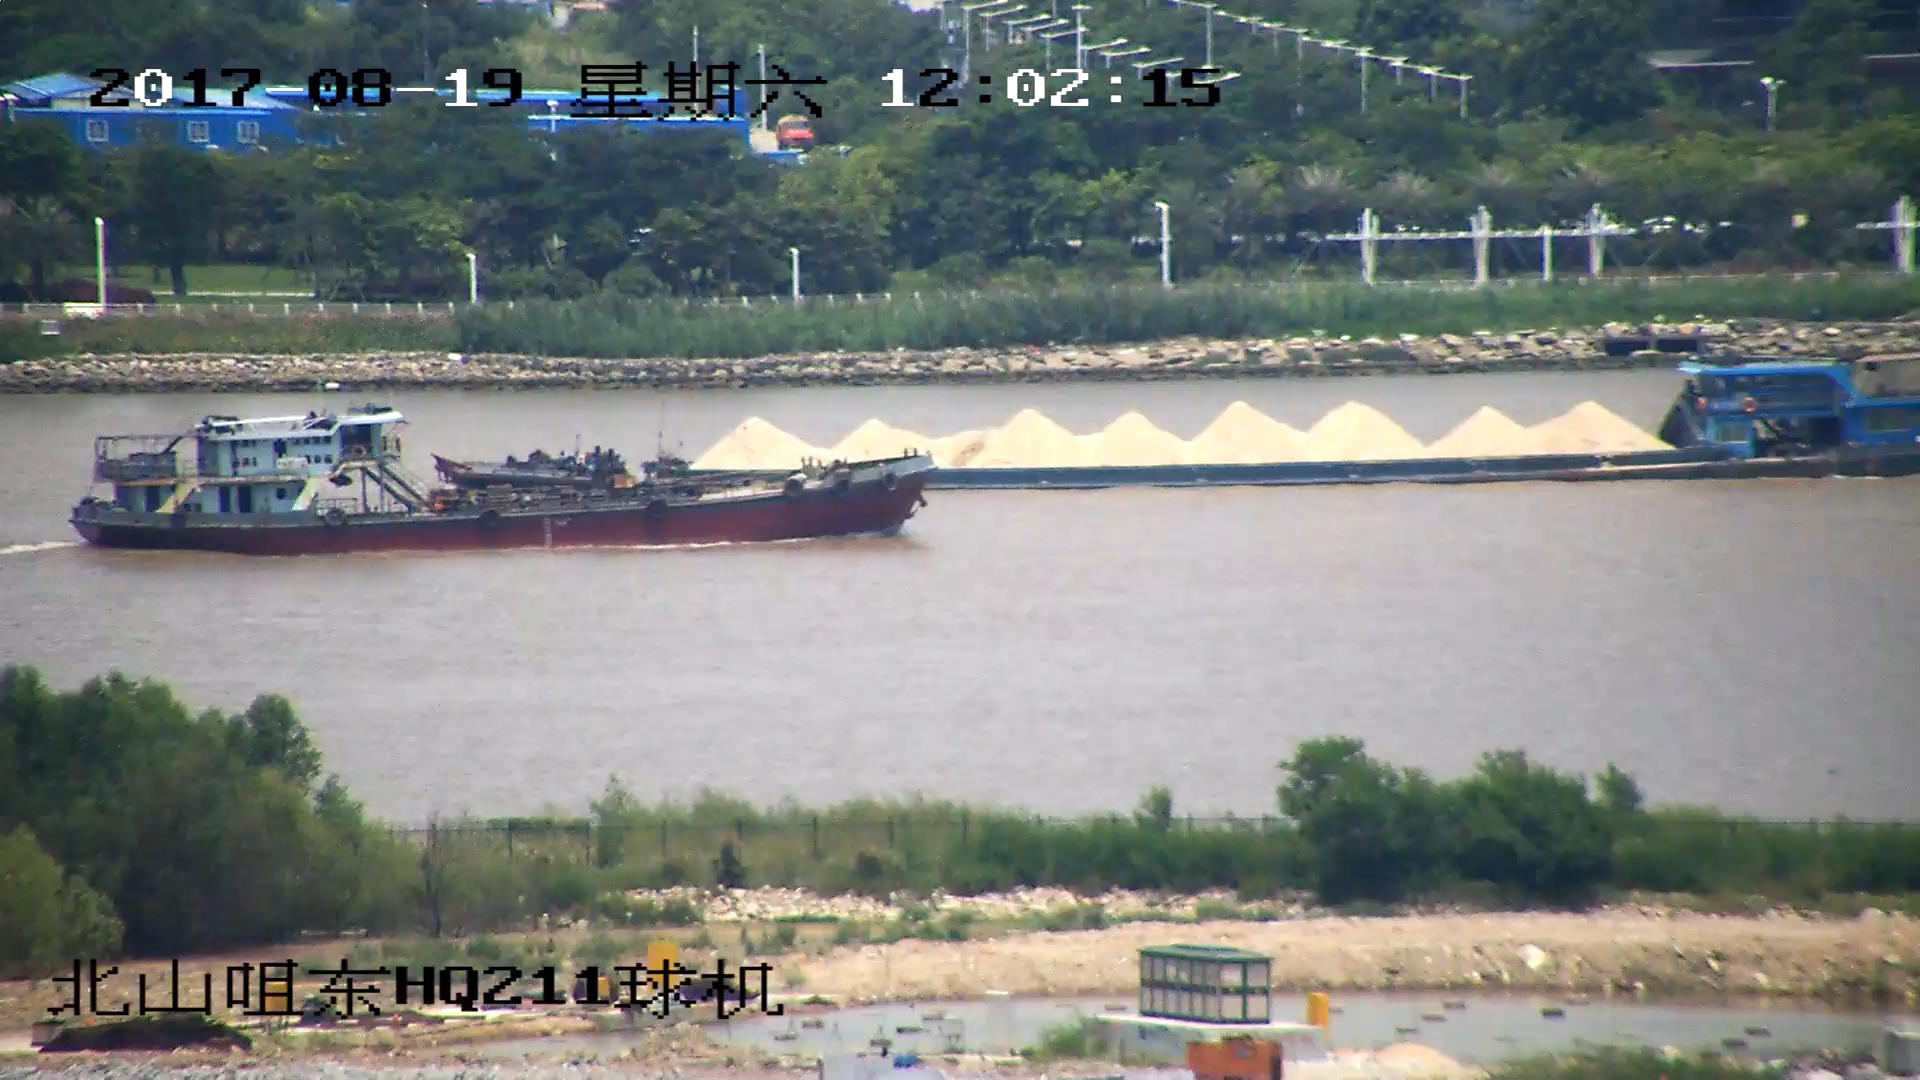bulk cargo carrier: (68, 409, 935, 554)
ore carrier: (688, 351, 1920, 487)
